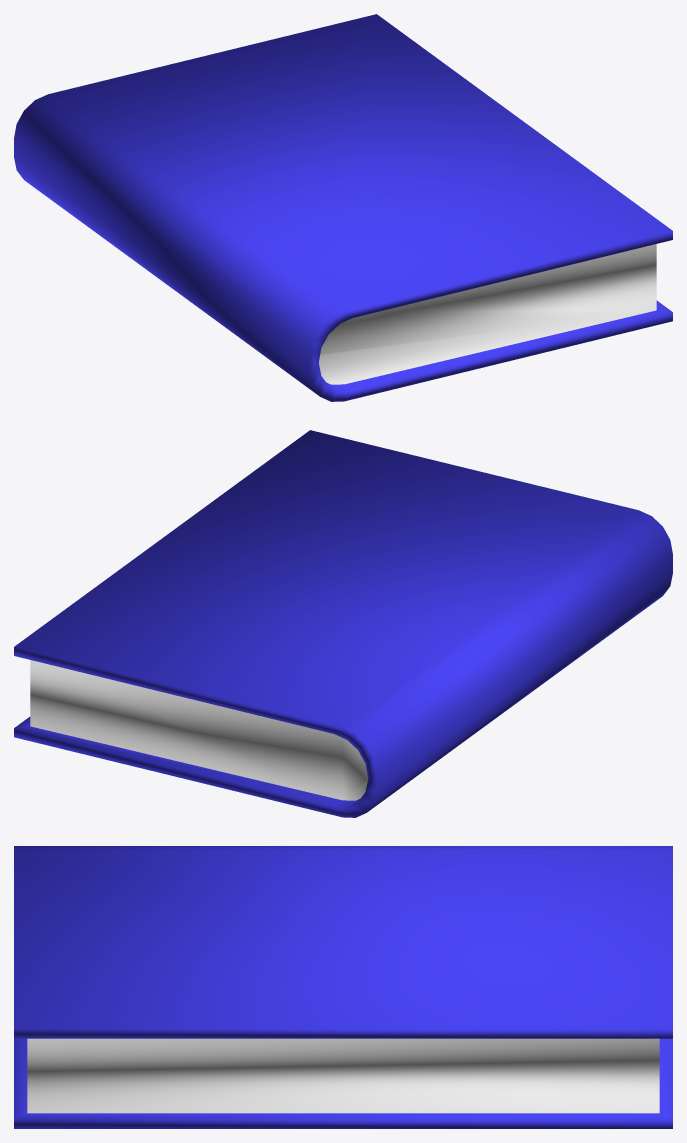
File: ksiazkaniebieska.fbx
3 renders of one model, top to bottom at view 1: azimuth 30°, elevation 25°; view 2: azimuth 150°, elevation 25°; view 3: azimuth 270°, elevation 25°, orthographic. The views are drawn at different scales.
Parts seen in each view (by area): view 1: Cube.001; view 2: Cube.001; view 3: Cube.001.
Part boxes in pixels (left/top/right/bottom): Cube.001: left=14, top=14, right=672, bottom=401; Cube.001: left=14, top=430, right=672, bottom=817; Cube.001: left=14, top=846, right=672, bottom=1128.
Size of the model in its own units: 420 by 100 by 594.
